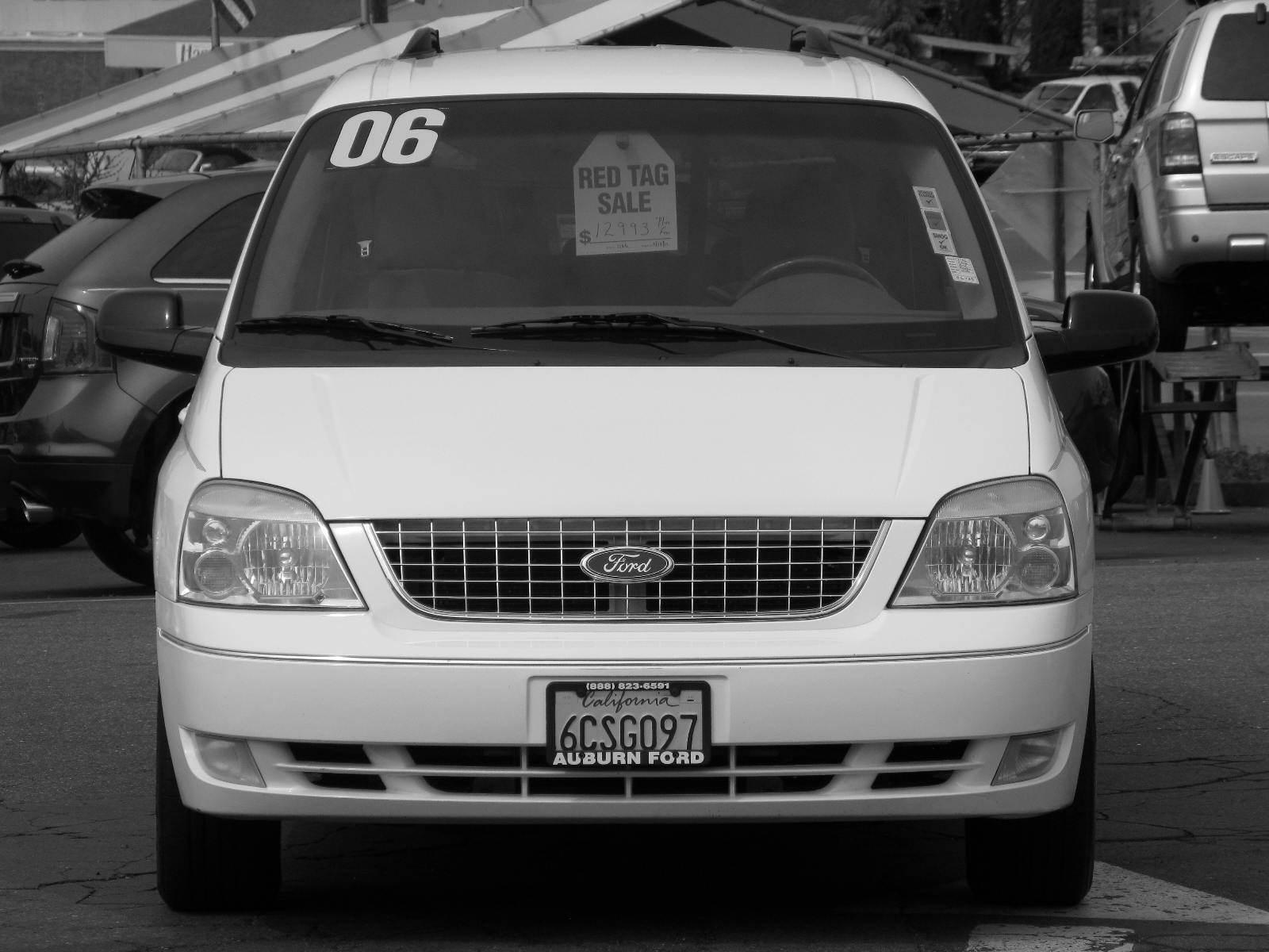car: (155, 34, 1088, 917)
